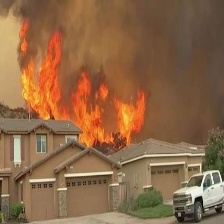fire: (18, 31, 142, 153)
smoke: (32, 2, 224, 61), (149, 1, 224, 136)
